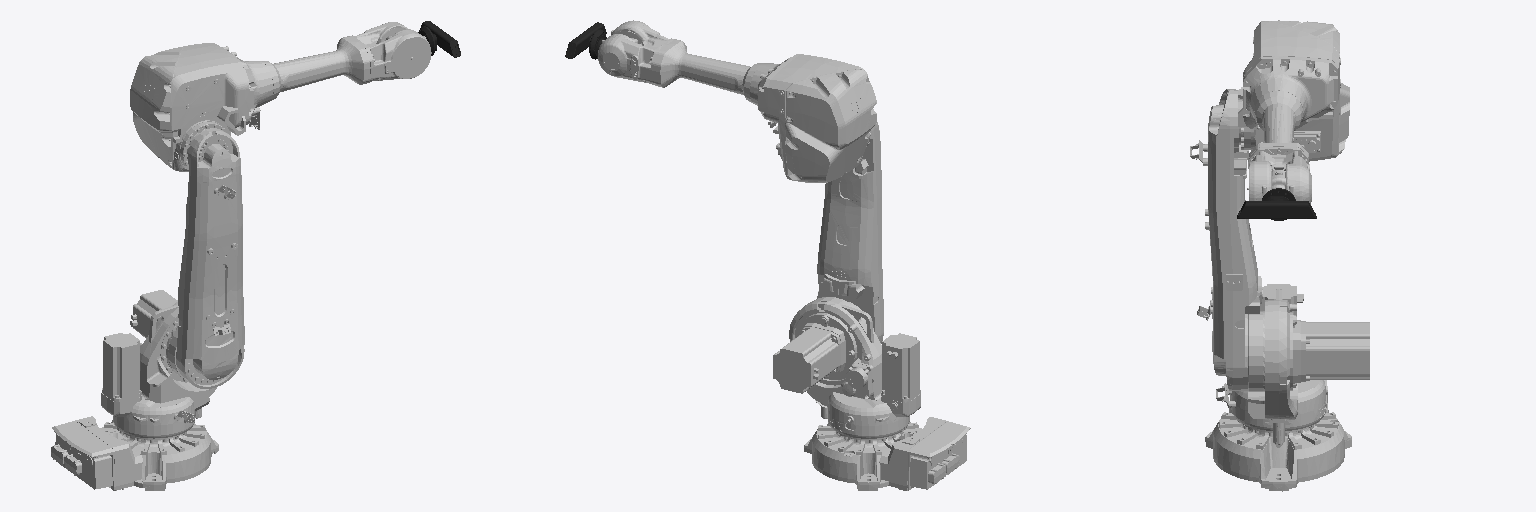
URDF robot description (abb_irb):
<?xml version="1.0" encoding="utf-8"?>
<!-- =================================================================================== -->
<!-- |    This document was autogenerated by xacro from abb_irb4600_60_205.xacro       | -->
<!-- |    EDITING THIS FILE BY HAND IS NOT RECOMMENDED                                 | -->
<!-- =================================================================================== -->
<robot name="abb_irb">
  <!--Tento file sa pouziva-->
  <gazebo>
    <plugin filename="libgazebo_ros_control.so" name="gazebo_ros_control">
      <robotNamespace>/abb_irb</robotNamespace>
    </plugin>
  </gazebo>
  <!-- Link1 -->
  <gazebo reference="base_link">
    <material>Gazebo/Orange</material>
  </gazebo>
  <gazebo reference="link_1">
    <material>Gazebo/Orange</material>
  </gazebo>
  <gazebo reference="link_2">
    <material>Gazebo/Orange</material>
  </gazebo>
  <gazebo reference="link_3">
    <material>Gazebo/Orange</material>
  </gazebo>
  <gazebo reference="link_4">
    <material>Gazebo/Orange</material>
  </gazebo>
  <gazebo reference="link_5">
    <material>Gazebo/Orange</material>
  </gazebo>
  <gazebo reference="link_6">
    <material>Gazebo/Orange</material>
  </gazebo>
  <gazebo reference="tool0">
    <material>Gazebo/Orange</material>
  </gazebo>
  <gazebo reference="kinect_mesh">
    <material>Gazebo/Black</material>
  </gazebo>
  <!-- link list -->
  <link name="world"/>
  <joint name="to_world" type="fixed">
    <origin rpy="0 0 0" xyz="0 0 0"/>
    <parent link="world"/>
    <child link="base_link"/>
  </joint>
  <link name="base_link">
    <visual>
      <origin rpy="0 0 0" xyz="0 0 0"/>
      <geometry>
        <mesh filename="package://abb_model/meshes/abb_irb4600_60_205/visual/base_link.stl"/>
      </geometry>
      <material name="abb_white">
        <color rgba="0.8 0.8 0.8 1"/>
      </material>
    </visual>
    <collision>
      <origin rpy="0 0 0" xyz="0 0 0"/>
      <geometry>
        <mesh filename="package://abb_model/meshes/abb_irb4600_60_205/collision/base_link.stl"/>
      </geometry>
      <material name="yellow">
        <color rgba="0 1 1 1"/>
      </material>
    </collision>
    <inertial>
      <origin rpy="0 0 0" xyz="0 0 0"/>
      <mass value="1"/>
      <inertia ixx="0.05" ixy="0.0" ixz="0.0" iyy="0.05" iyz="0.0" izz="0.05"/>
    </inertial>
  </link>
  <link name="link_1">
    <visual>
      <origin rpy="0 0 0" xyz="0 0 0"/>
      <geometry>
        <mesh filename="package://abb_model/meshes/abb_irb4600_60_205/visual/link_1.stl"/>
      </geometry>
      <material name="abb_white"/>
    </visual>
    <collision>
      <origin rpy="0 0 0" xyz="0 0 0"/>
      <geometry>
        <mesh filename="package://abb_model/meshes/abb_irb4600_60_205/collision/link_1.stl"/>
      </geometry>
      <material name="yellow"/>
    </collision>
    <inertial>
      <origin rpy="0 0 0" xyz="0 0 0"/>
      <mass value="1"/>
      <inertia ixx="0.05" ixy="0.0" ixz="0.0" iyy="0.05" iyz="0.0" izz="0.05"/>
    </inertial>
  </link>
  <link name="link_2">
    <visual>
      <origin rpy="0 0 0" xyz="0 0 0"/>
      <geometry>
        <mesh filename="package://abb_model/meshes/abb_irb4600_60_205/visual/link_2.stl"/>
      </geometry>
      <material name="abb_white"/>
    </visual>
    <collision>
      <origin rpy="0 0 0" xyz="0 0 0"/>
      <geometry>
        <mesh filename="package://abb_model/meshes/abb_irb4600_60_205/collision/link_2.stl"/>
      </geometry>
      <material name="yellow"/>
    </collision>
    <inertial>
      <origin rpy="0 0 0" xyz="0 0 0"/>
      <mass value="1"/>
      <inertia ixx="0.05" ixy="0.0" ixz="0.0" iyy="0.05" iyz="0.0" izz="0.05"/>
    </inertial>
  </link>
  <link name="link_3">
    <visual>
      <origin rpy="0 0 0" xyz="0 0 0"/>
      <geometry>
        <mesh filename="package://abb_model/meshes/abb_irb4600_60_205/visual/link_3.stl"/>
      </geometry>
      <material name="abb_white"/>
    </visual>
    <collision>
      <origin rpy="0 0 0" xyz="0 0 0"/>
      <geometry>
        <mesh filename="package://abb_model/meshes/abb_irb4600_60_205/collision/link_3.stl"/>
      </geometry>
      <material name="yellow"/>
    </collision>
    <inertial>
      <origin rpy="0 0 0" xyz="0 0 0"/>
      <mass value="1"/>
      <inertia ixx="0.05" ixy="0.0" ixz="0.0" iyy="0.05" iyz="0.0" izz="0.05"/>
    </inertial>
  </link>
  <link name="link_4">
    <visual>
      <origin rpy="0 0 0" xyz="0 0 0"/>
      <geometry>
        <mesh filename="package://abb_model/meshes/abb_irb4600_60_205/visual/link_4.stl"/>
      </geometry>
      <material name="abb_white"/>
    </visual>
    <collision>
      <origin rpy="0 0 0" xyz="0 0 0"/>
      <geometry>
        <mesh filename="package://abb_model/meshes/abb_irb4600_60_205/collision/link_4.stl"/>
      </geometry>
      <material name="yellow"/>
    </collision>
    <inertial>
      <origin rpy="0 0 0" xyz="0 0 0"/>
      <mass value="1"/>
      <inertia ixx="0.05" ixy="0.0" ixz="0.0" iyy="0.05" iyz="0.0" izz="0.05"/>
    </inertial>
  </link>
  <link name="link_5">
    <visual>
      <origin rpy="0 0 0" xyz="0 0 0"/>
      <geometry>
        <mesh filename="package://abb_model/meshes/abb_irb4600_60_205/visual/link_5.stl"/>
      </geometry>
      <material name="abb_white"/>
    </visual>
    <collision>
      <origin rpy="0 0 0" xyz="0 0 0"/>
      <geometry>
        <mesh filename="package://abb_model/meshes/abb_irb4600_60_205/collision/link_5.stl"/>
      </geometry>
      <material name="yellow"/>
    </collision>
    <inertial>
      <origin rpy="0 0 0" xyz="0 0 0"/>
      <mass value="1"/>
      <inertia ixx="0.05" ixy="0.0" ixz="0.0" iyy="0.05" iyz="0.0" izz="0.05"/>
    </inertial>
  </link>
  <link name="link_6">
    <visual>
      <origin rpy="0 0 0" xyz="0 0 0"/>
      <geometry>
        <mesh filename="package://abb_model/meshes/abb_irb4600_60_205/visual/link_6.stl"/>
      </geometry>
      <material name="abb_grey">
        <color rgba="0.2 0.2 0.2 1"/>
      </material>
    </visual>
    <collision>
      <origin rpy="0 0 0" xyz="0 0 0"/>
      <geometry>
        <mesh filename="package://abb_model/meshes/abb_irb4600_60_205/collision/link_6.stl"/>
      </geometry>
      <material name="yellow"/>
    </collision>
    <inertial>
      <origin rpy="0 0 0" xyz="0 0 0"/>
      <mass value="1"/>
      <inertia ixx="0.05" ixy="0.0" ixz="0.0" iyy="0.05" iyz="0.0" izz="0.05"/>
    </inertial>
  </link>
  <link name="tool0"/>
  <!-- end of link list -->
  <!-- TODO ALL JOINT LIMITS limits are edited and reduced to lower values-->
  <!-- joint list -->
  <joint name="joint_1" type="revolute">
    <origin rpy="1.10409999285604E-14 0 0" xyz="0 0 0.1535"/>
    <parent link="base_link"/>
    <child link="link_1"/>
    <axis xyz="0 0 1"/>
    <limit effort="1000" lower="-2.62" upper="2.62" velocity="3.05"/>
  </joint>
  <joint name="joint_2" type="revolute">
    <origin rpy="-1.57772181044202E-30 0 0" xyz="0.174999999999998 -0.0515489073390827 0.341500000000001"/>
    <parent link="link_1"/>
    <child link="link_2"/>
    <axis xyz="0 1 0"/>
    <limit effort="1000" lower="-1.57" upper="1.57" velocity="3.05"/>
  </joint>
  <joint name="joint_3" type="revolute">
    <origin rpy="-1.11022302462516E-14 0 0" xyz="0 0 0.9"/>
    <parent link="link_2"/>
    <child link="link_3"/>
    <axis xyz="0 1 0"/>
    <limit effort="1000" lower="-3.14" upper="1.31" velocity="4.36"/>
  </joint>
  <joint name="joint_4" type="revolute">
    <origin rpy="0 0 0" xyz="0.331499999999985 0.0515489073390958 0.175000000000008"/>
    <parent link="link_3"/>
    <child link="link_4"/>
    <axis xyz="1 0 0"/>
    <limit effort="1000" lower="-6.98" upper="6.98" velocity="4.36"/>
  </joint>
  <joint name="joint_5" type="revolute">
    <origin rpy="0 0 0" xyz="0.628499999999995 0 0"/>
    <parent link="link_4"/>
    <child link="link_5"/>
    <axis xyz="0 1 0"/>
    <limit effort="1000" lower="-2.09" upper="2.18" velocity="4.36"/>
  </joint>
  <joint name="joint_6" type="revolute">
    <origin rpy="0 0 0" xyz="0 0 0"/>
    <parent link="link_5"/>
    <child link="link_6"/>
    <axis xyz="1 0 0"/>
    <limit effort="1000" lower="-6.98" upper="6.98" velocity="6.28"/>
  </joint>
  <joint name="joint_6-tool0" type="fixed">
    <parent link="link_6"/>
    <child link="tool0"/>
    <origin rpy="0 1.570796 0" xyz="0.135 0 0"/>
  </joint>
  <transmission name="tran1">
    <type>transmission_interface/SimpleTransmission</type>
    <joint name="joint_1">
      <hardwareInterface>PositionJointInterface</hardwareInterface>
    </joint>
    <actuator name="motor_1">
      <hardwareInterface>PositionJointInterface</hardwareInterface>
      <mechanicalReduction>1000</mechanicalReduction>
    </actuator>
  </transmission>
  <transmission name="tran2">
    <type>transmission_interface/SimpleTransmission</type>
    <joint name="joint_2">
      <hardwareInterface>PositionJointInterface</hardwareInterface>
    </joint>
    <actuator name="motor_2">
      <hardwareInterface>PositionJointInterface</hardwareInterface>
      <mechanicalReduction>1000</mechanicalReduction>
    </actuator>
  </transmission>
  <transmission name="tran3">
    <type>transmission_interface/SimpleTransmission</type>
    <joint name="joint_3">
      <hardwareInterface>PositionJointInterface</hardwareInterface>
    </joint>
    <actuator name="motor_3">
      <hardwareInterface>PositionJointInterface</hardwareInterface>
      <mechanicalReduction>1000</mechanicalReduction>
    </actuator>
  </transmission>
  <transmission name="tran4">
    <type>transmission_interface/SimpleTransmission</type>
    <joint name="joint_4">
      <hardwareInterface>PositionJointInterface</hardwareInterface>
    </joint>
    <actuator name="motor_4">
      <hardwareInterface>PositionJointInterface</hardwareInterface>
      <mechanicalReduction>1000</mechanicalReduction>
    </actuator>
  </transmission>
  <transmission name="tran5">
    <type>transmission_interface/SimpleTransmission</type>
    <joint name="joint_5">
      <hardwareInterface>PositionJointInterface</hardwareInterface>
    </joint>
    <actuator name="motor_5">
      <hardwareInterface>PositionJointInterface</hardwareInterface>
      <mechanicalReduction>1000</mechanicalReduction>
    </actuator>
  </transmission>
  <transmission name="tran6">
    <type>transmission_interface/SimpleTransmission</type>
    <joint name="joint_6">
      <hardwareInterface>PositionJointInterface</hardwareInterface>
    </joint>
    <actuator name="motor_6">
      <hardwareInterface>PositionJointInterface</hardwareInterface>
      <mechanicalReduction>1000</mechanicalReduction>
    </actuator>
  </transmission>
  <gazebo reference="tool0">
    <material>Gazebo/Black</material>
    <sensor name="kinect" type="depth">
      <update_rate>10.0</update_rate>
      <camera name="depth_cam">
        <horizontal_fov>1</horizontal_fov>
        <image>
          <width>640</width>
          <height>480</height>
          <format>R8G8B8</format>
        </image>
        <clip>
          <near>0.05</near>
          <far>5</far>
        </clip>
      </camera>
      <plugin filename="libgazebo_ros_openni_kinect.so" name="kinect_controller">
        <baseline>0.2</baseline>
        <alwaysOn>true</alwaysOn>
        <updateRate>10.0</updateRate>
        <cameraName>kinect</cameraName>
        <imageTopicName>/kinect/rgb/image_raw</imageTopicName>
        <cameraInfoTopicName>/kinect/depth/camera_info</cameraInfoTopicName>
        <depthImageTopicName>/kinect/depth/image_raw</depthImageTopicName>
        <depthImageInfoTopicName>/kinect/depth/depth_camera_info</depthImageInfoTopicName>
        <pointCloudTopicName>/kinect/depth/points</pointCloudTopicName>
        <frameName>link_depthtf</frameName>
        <pointCloudCutoff>0.4</pointCloudCutoff>
        <pointCloudCutoffMax>8.0</pointCloudCutoffMax>
        <distortionK1>0.00000001</distortionK1>
        <distortionK2>0.00000001</distortionK2>
        <distortionK3>0.00000001</distortionK3>
        <distortionT1>0.00000001</distortionT1>
        <distortionT2>0.00000001</distortionT2>
        <CxPrime>0</CxPrime>
        <Cx>0</Cx>
        <Cy>0</Cy>
        <focalLength>0</focalLength>
        <hackBaseline>0</hackBaseline>
      </plugin>
    </sensor>
  </gazebo>
  <link name="link_depthtf"/>
  <link name="kinect_mesh">
    <visual>
      <origin rpy="0 0 1.57" xyz="0 0 0"/>
      <geometry>
        <mesh filename="package://abb_model/meshes/kinect/visual/kinect_sensor.stl" scale="0.001 0.001 0.001"/>
      </geometry>
      <material name="abb_grey">
        <color rgba="0.2 0.2 0.2 1"/>
      </material>
    </visual>
    <collision>
      <origin rpy="0 0 1.57" xyz="0 0 0"/>
      <geometry>
        <mesh filename="package://abb_model/meshes/kinect/collision/kinect_sensor.stl" scale="0.001 0.001 0.001"/>
      </geometry>
      <material name="yellow"/>
    </collision>
    <inertial>
      <mass value="1.0"/>
      <origin rpy="0 0 0" xyz="0 0 0"/>
      <inertia ixx="0.1" ixy="0.01" ixz="0.01" iyy="0.1" iyz="0.01" izz="0.1"/>
    </inertial>
  </link>
  <joint name="to_kinect_mesh" type="fixed">
    <parent link="tool0"/>
    <child link="kinect_mesh"/>
    <origin rpy="0 0 0" xyz="0 0 0.015"/>
  </joint>
  <joint name="to_link_depthtf" type="fixed">
    <parent link="tool0"/>
    <child link="link_depthtf"/>
    <!--origin xyz="0 0 0.015" rpy="0 0 0"/-->
    <origin rpy="-1.57 0 -1.57" xyz="0 0 0"/>
  </joint>
</robot>

--- Facts derived from the render (not from the file) ---
Views: 3 orthographic renders of the robot side by side, from view 1: azimuth 30°, elevation 25°; view 2: azimuth 150°, elevation 25°; view 3: azimuth 270°, elevation 25°.
Robot: abb_irb — 11 links, 10 joints (6 revolute, 4 fixed); root link world; default pose: every joint at zero.
Links seen in each view (by area): view 1: link_2, link_3, link_1, base_link, link_4, kinect_mesh; view 2: link_1, link_3, link_2, base_link, link_4, kinect_mesh; view 3: link_1, link_2, link_3, base_link, link_4, kinect_mesh.
Boxes of the visible links, x1,y1,x2,y2 form: link_2: (176, 128, 244, 388); link_3: (130, 43, 273, 171); link_1: (101, 290, 216, 442); base_link: (51, 416, 218, 490); link_4: (262, 22, 431, 100); kinect_mesh: (421, 21, 460, 57); link_1: (773, 297, 920, 442); link_3: (750, 54, 876, 182); link_2: (817, 122, 883, 343); base_link: (804, 417, 970, 490); link_4: (598, 20, 763, 102); kinect_mesh: (565, 22, 606, 58); link_1: (1216, 284, 1369, 444); link_2: (1190, 89, 1262, 390); link_3: (1238, 20, 1349, 161); base_link: (1205, 380, 1351, 491); link_4: (1247, 91, 1311, 204); kinect_mesh: (1237, 196, 1316, 218).
Bounding box of the posed robot: 1.74 × 0.6312 × 1.73 m (x, y, z).
8 mesh visuals loaded from 8 distinct referenced files (8 binary STL).
